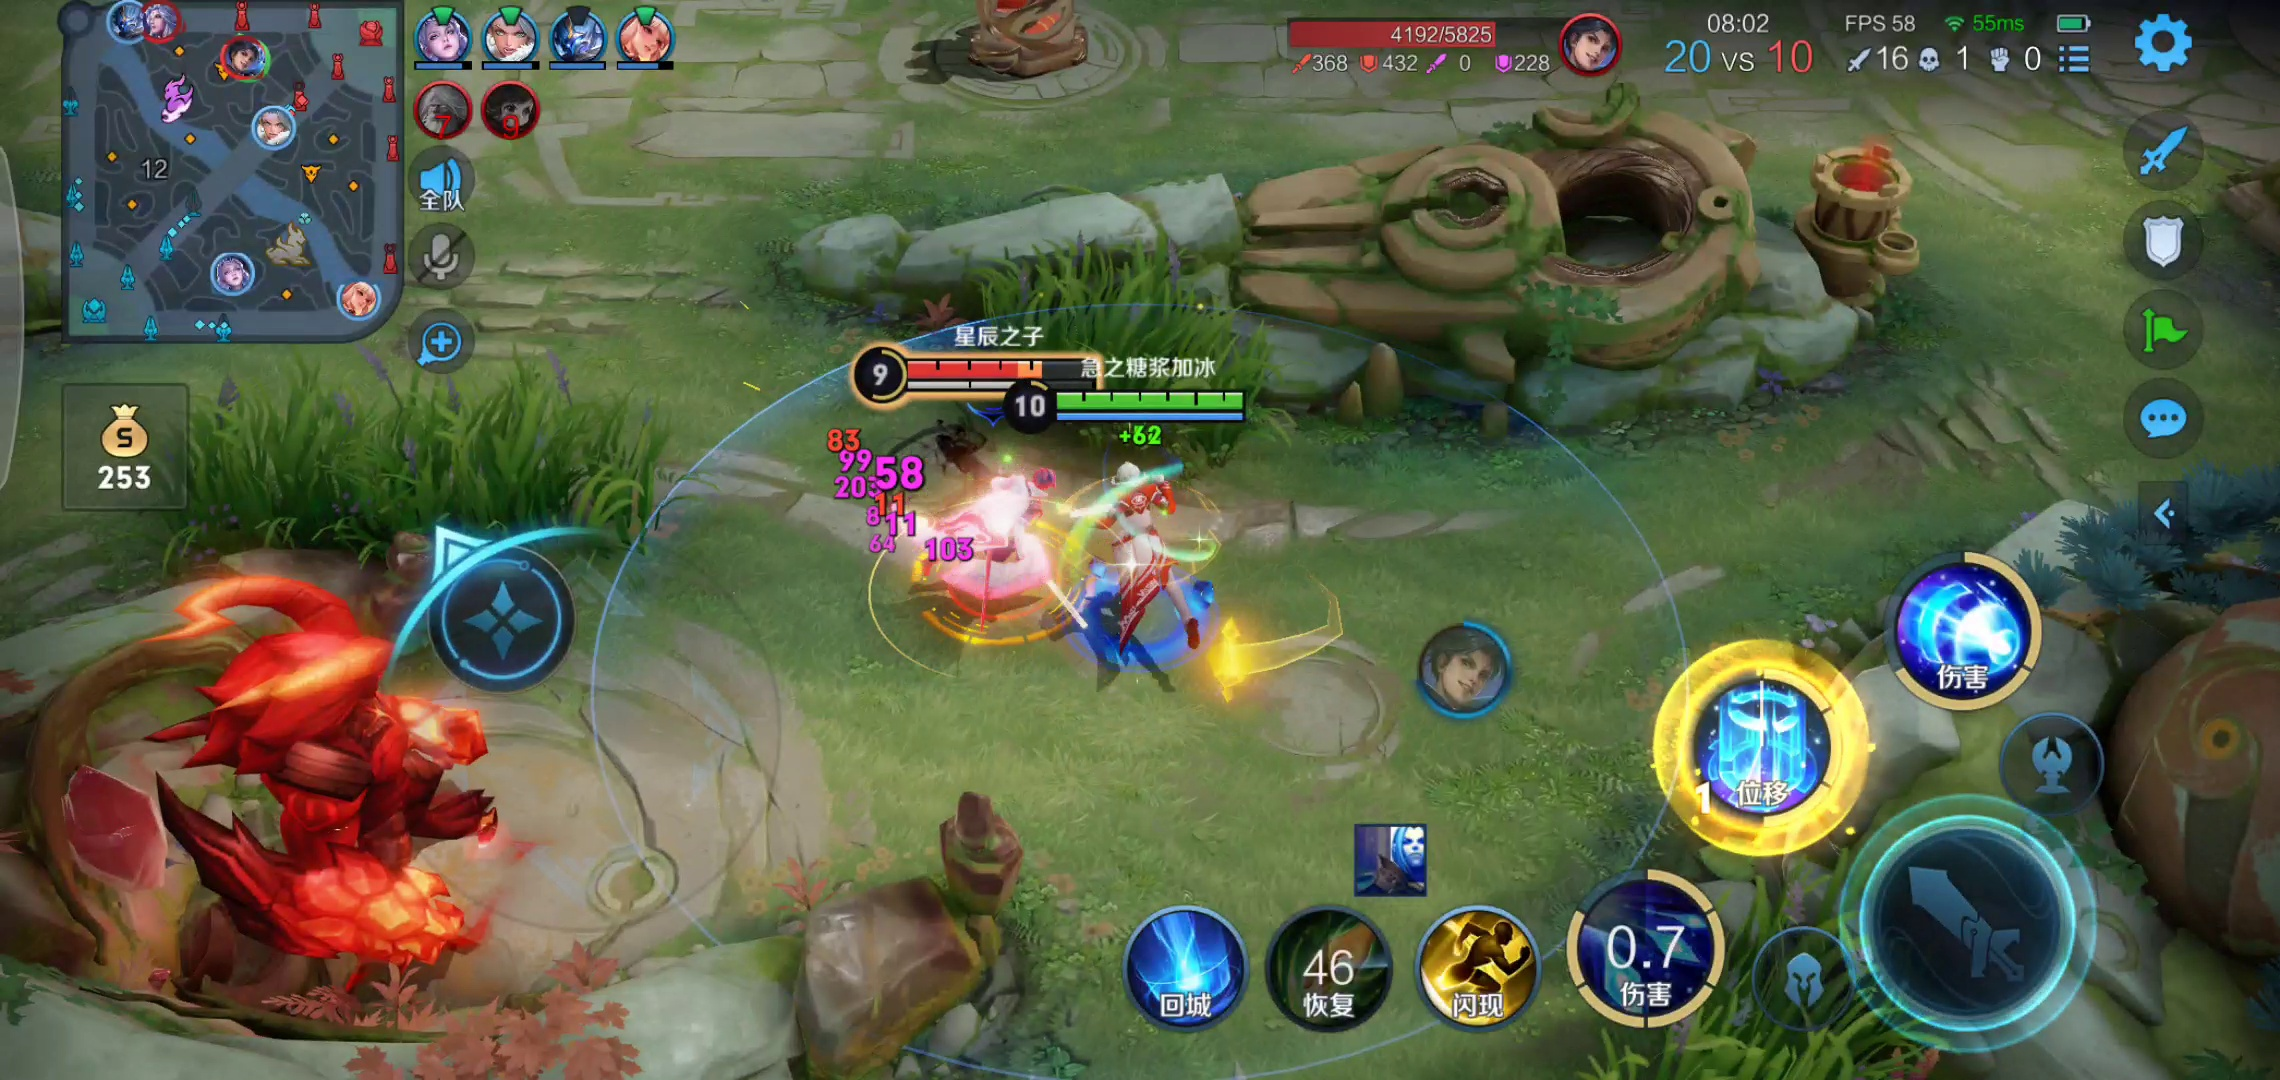buff: (142, 602, 523, 1020)
grass: (128, 395, 675, 565), (1610, 917, 1953, 1077), (979, 265, 1288, 432)
hero: (904, 449, 1061, 644), (1079, 467, 1226, 669)
tower: (954, 1, 1096, 89)
